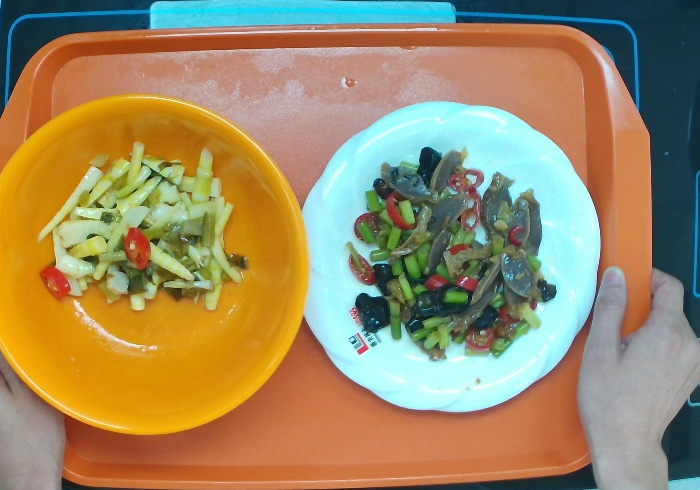ZNLD-Hua_Bian_Wan: (284, 97, 612, 428)
ZNLD-Ju_Se_Tang_Wan: (1, 83, 323, 440)
